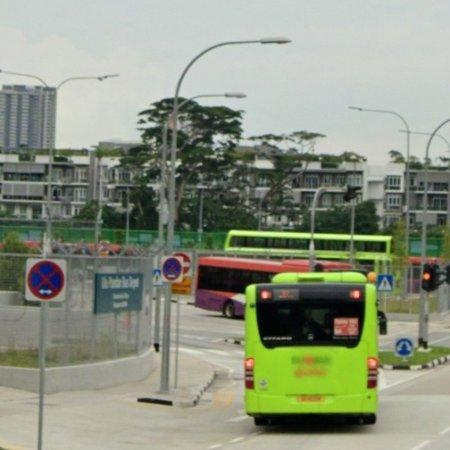buses: (245, 273, 380, 427), (195, 257, 309, 318), (225, 230, 312, 258), (356, 235, 393, 273), (315, 234, 351, 261), (317, 261, 352, 271)
